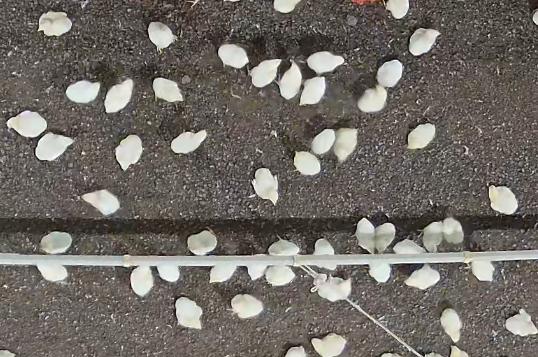chick: (112, 133, 146, 171), (273, 59, 303, 101), (251, 165, 279, 207), (34, 10, 74, 39), (486, 183, 520, 217), (79, 188, 120, 216), (6, 109, 48, 136), (407, 26, 442, 57), (104, 78, 134, 114), (36, 132, 73, 161), (170, 128, 208, 156), (406, 120, 438, 153), (304, 51, 346, 76), (174, 296, 204, 331), (148, 20, 179, 53), (228, 292, 264, 320), (315, 277, 357, 301), (187, 225, 219, 256), (249, 58, 282, 88), (404, 262, 440, 289), (356, 83, 389, 112), (299, 76, 328, 108), (505, 309, 537, 338), (66, 78, 101, 104), (352, 217, 377, 253), (334, 126, 358, 163), (291, 149, 323, 176), (418, 220, 445, 252), (311, 334, 348, 357), (376, 59, 403, 90), (268, 234, 302, 258), (153, 76, 184, 102), (38, 230, 73, 253), (441, 306, 462, 344), (218, 44, 249, 68), (312, 239, 336, 270), (131, 264, 153, 297), (36, 262, 68, 284), (309, 129, 336, 154), (247, 252, 267, 284), (266, 266, 296, 287), (392, 238, 426, 256), (207, 265, 239, 284), (443, 216, 464, 244), (375, 223, 396, 251), (369, 260, 394, 283), (270, 0, 304, 16), (156, 262, 181, 283), (469, 260, 493, 281), (447, 342, 471, 357), (282, 344, 309, 357)
